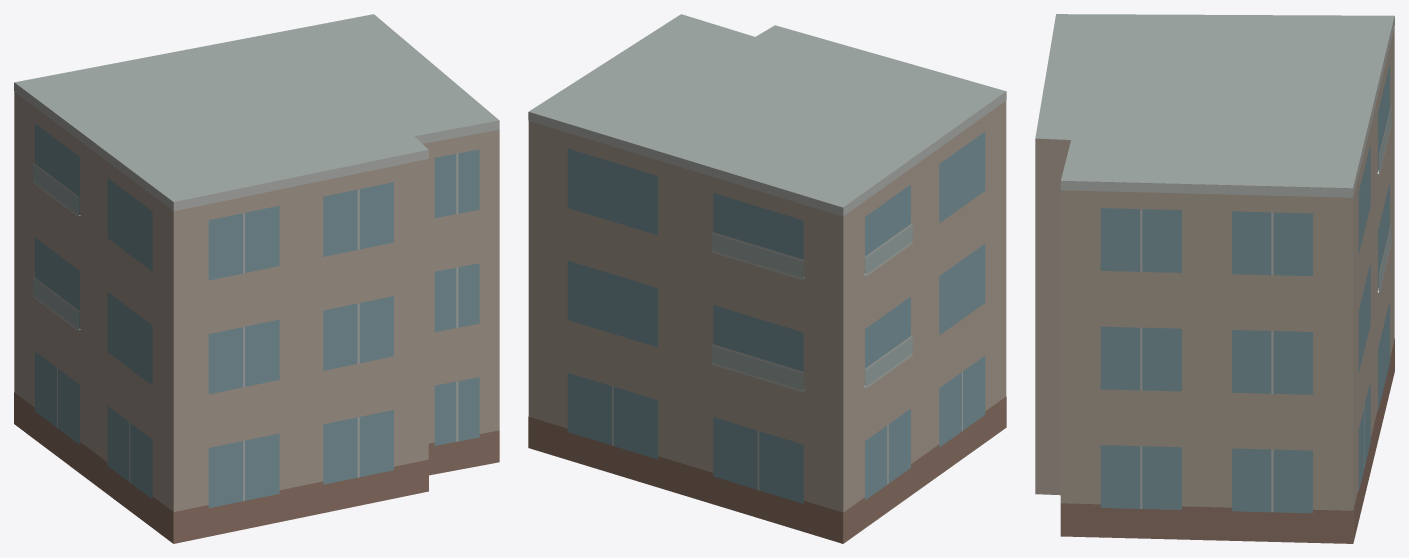
The model's file is survey-upis-32464247.glb.
3 renders of one model, left to right at view 1: azimuth 30°, elevation 25°; view 2: azimuth 150°, elevation 25°; view 3: azimuth 270°, elevation 25°, orthographic. The views are drawn at different scales.
Visible parts, largest first — view 1: survey-upis-32464247.tmp; view 2: survey-upis-32464247.tmp; view 3: survey-upis-32464247.tmp.
Part boxes in pixels (left/top/right/bottom): survey-upis-32464247.tmp: left=14, top=14, right=499, bottom=543; survey-upis-32464247.tmp: left=528, top=14, right=1006, bottom=543; survey-upis-32464247.tmp: left=1035, top=14, right=1394, bottom=543.
Bounding box in the file's own units: 9.57 × 9.1 × 8.35.
